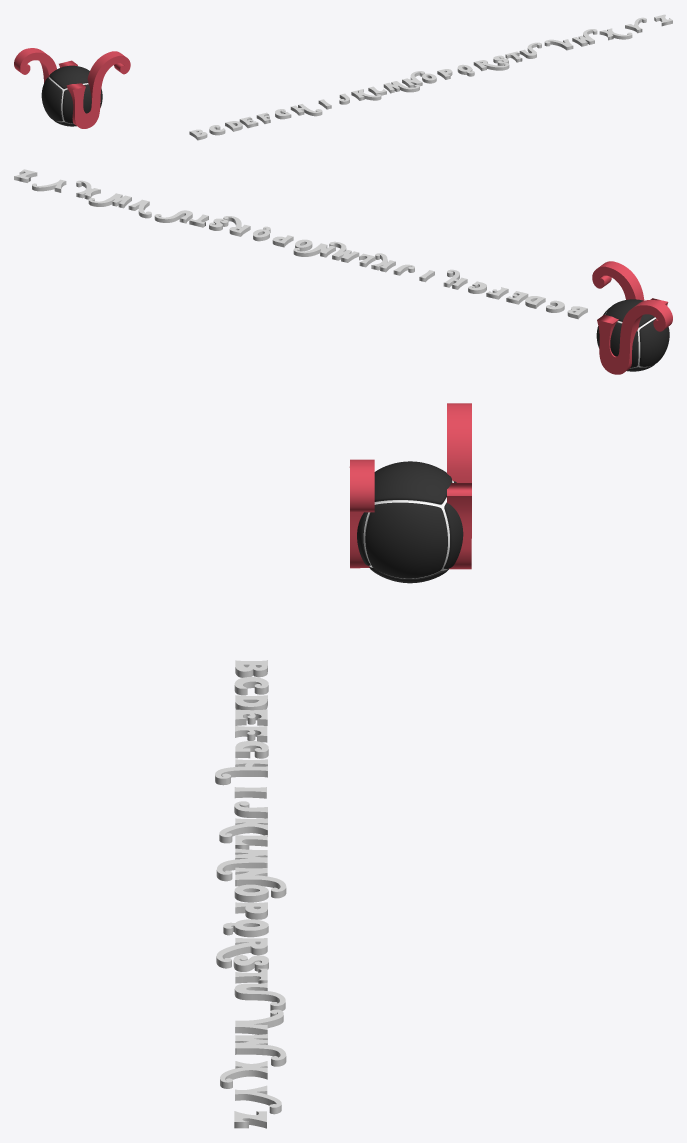
3 views of the same model, one above another, from view 1: azimuth 30°, elevation 25°; view 2: azimuth 150°, elevation 25°; view 3: azimuth 270°, elevation 25° (orthographic). The views are drawn at different scales.
Parts seen in each view (by area): view 1: Cube.001, A, A.001, M, W, R, H, X, N, K, U; view 2: A.001, Cube.001, A, W, N, M, U; view 3: Cube.001, A.001, A.
Part boxes in pixels (x1,y1,x2,y2): Cube.001: (41, 65, 102, 126); A: (66, 51, 130, 128); A.001: (14, 48, 77, 82); M: (383, 81, 419, 93); W: (572, 29, 597, 46); R: (473, 60, 509, 70); H: (290, 104, 322, 116); X: (599, 28, 632, 40); N: (402, 71, 424, 87); K: (351, 89, 381, 100); U: (519, 42, 541, 58); A.001: (597, 299, 672, 374); Cube.001: (596, 299, 669, 371); A: (592, 261, 668, 305); W: (88, 193, 131, 208); N: (293, 243, 335, 257); M: (329, 241, 359, 262); U: (154, 210, 192, 223); Cube.001: (357, 461, 463, 583); A.001: (447, 403, 471, 569); A: (349, 459, 374, 568).
Size of the model in its own units: 1940 by 236 by 360.
